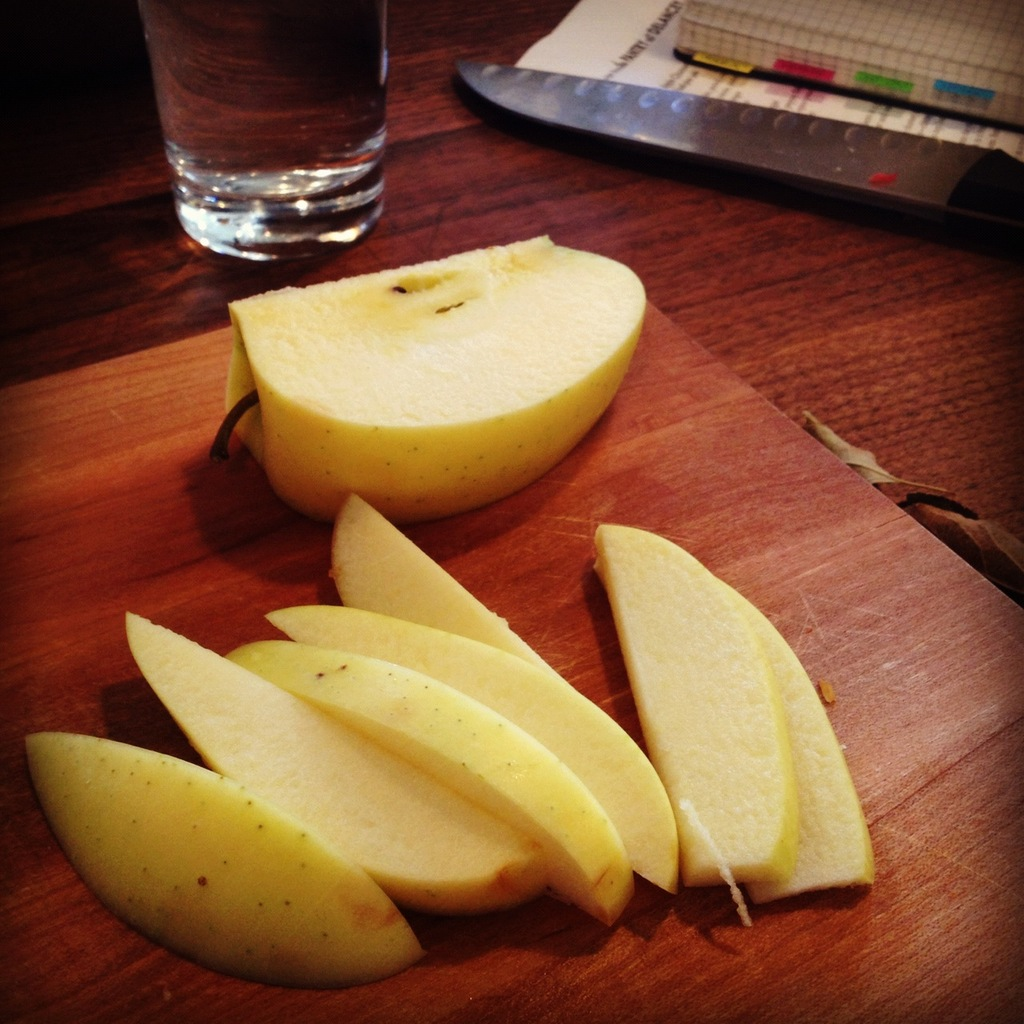Apple: (26, 494, 883, 992), (225, 240, 633, 549)
